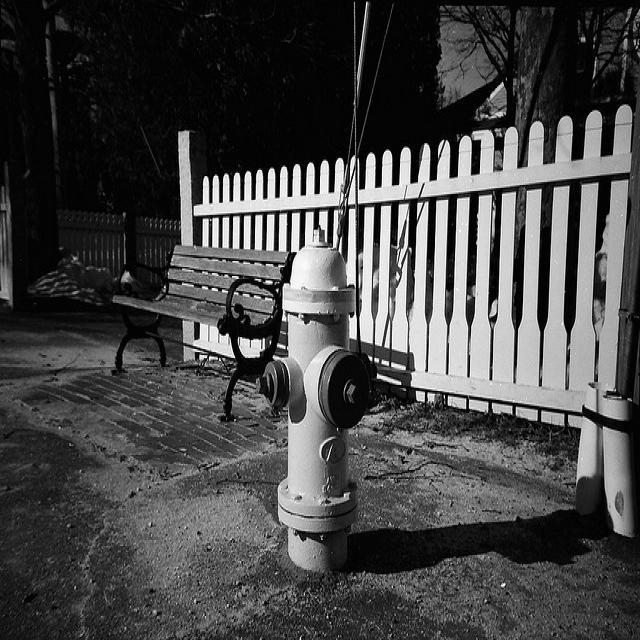fire_hydrant: (255, 221, 374, 576)
